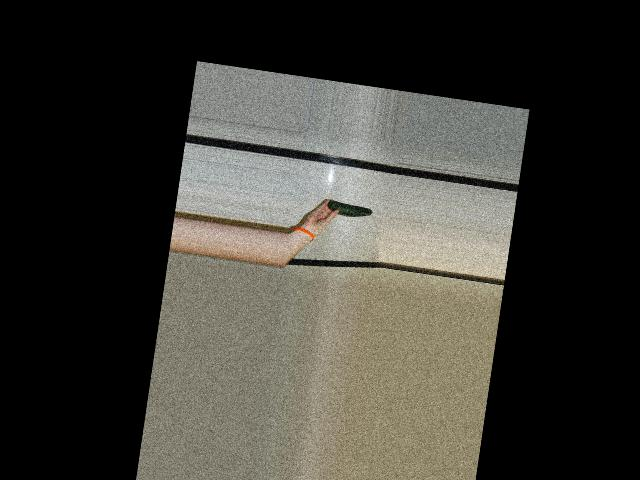cucumber: (326, 199, 373, 219)
